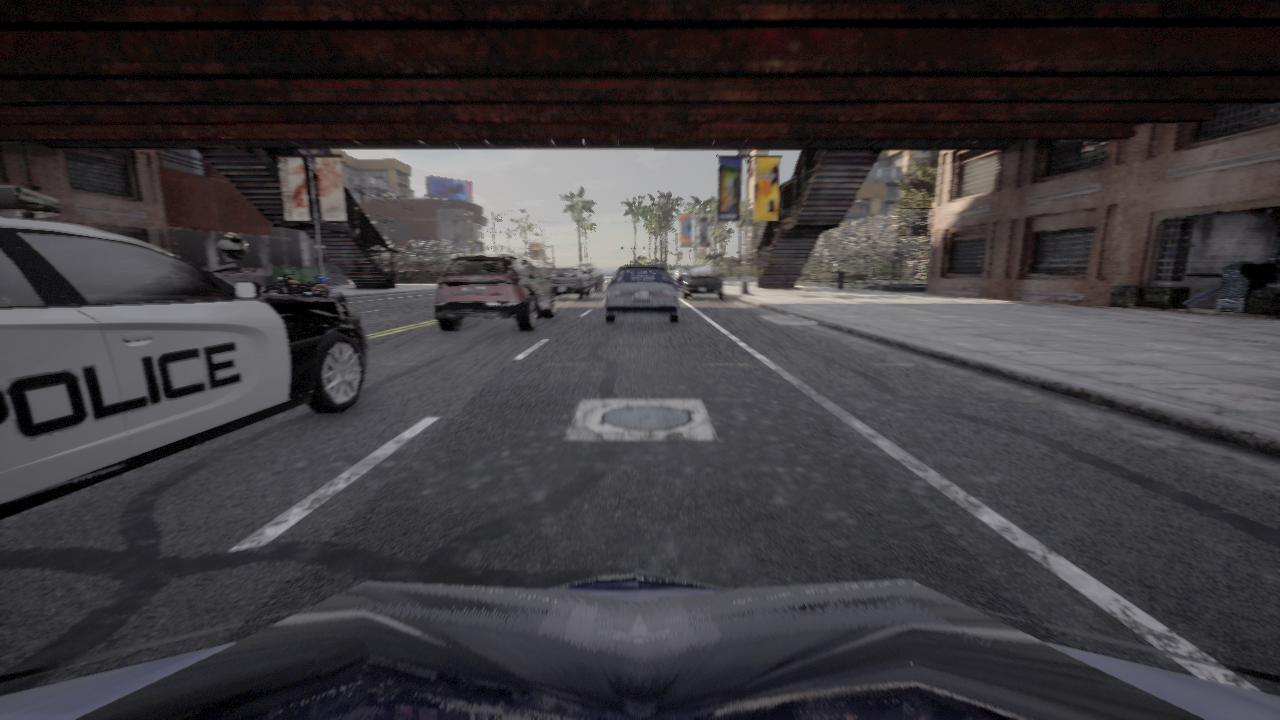cyclist: (0, 569, 1279, 719), (0, 186, 367, 520), (434, 253, 556, 331), (604, 266, 679, 322), (263, 271, 329, 298), (683, 267, 727, 299), (546, 268, 590, 299), (573, 263, 603, 291), (669, 266, 694, 287), (313, 273, 337, 293), (719, 271, 724, 277), (668, 270, 674, 272)
